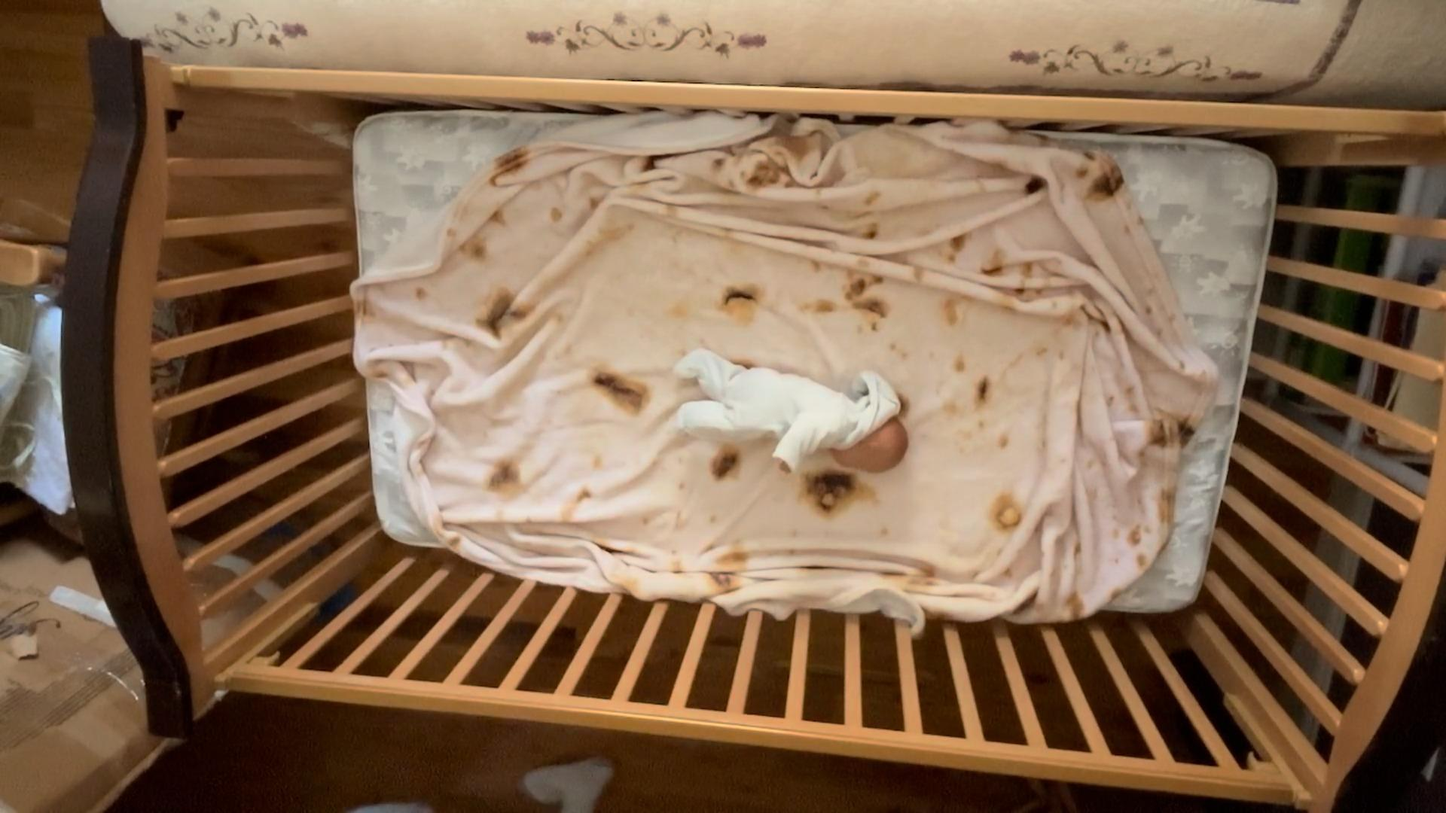baby: (670, 345, 910, 481)
